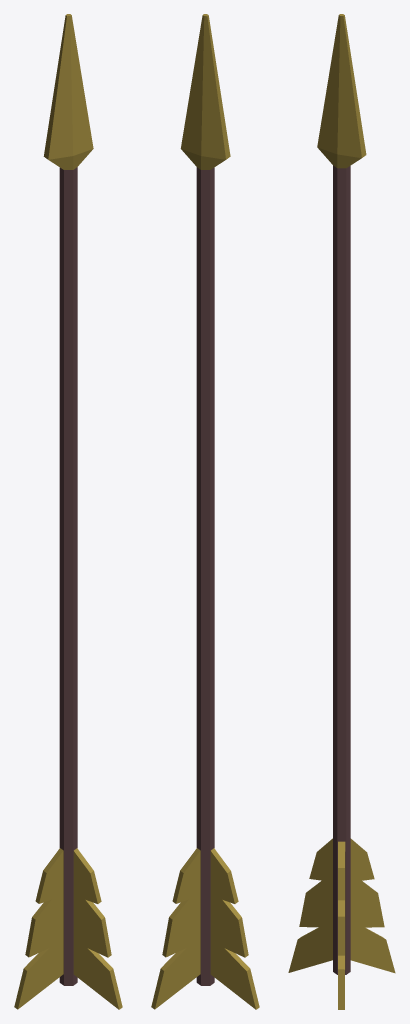
Rendered from Arrow_Golden.glb.
3 views of the same model, side by side, from view 1: azimuth 30°, elevation 25°; view 2: azimuth 150°, elevation 25°; view 3: azimuth 330°, elevation 25° (orthographic).
Parts seen in each view (by area): view 1: Arrow_Golden; view 2: Arrow_Golden; view 3: Arrow_Golden.
Boxes of the visible parts, x1,y1,x2,y2 form: Arrow_Golden: [14, 14, 122, 1009]; Arrow_Golden: [151, 14, 259, 1009]; Arrow_Golden: [288, 14, 395, 1009].
Bounding box in the file's own units: 0.1269 × 1.46 × 0.146.
